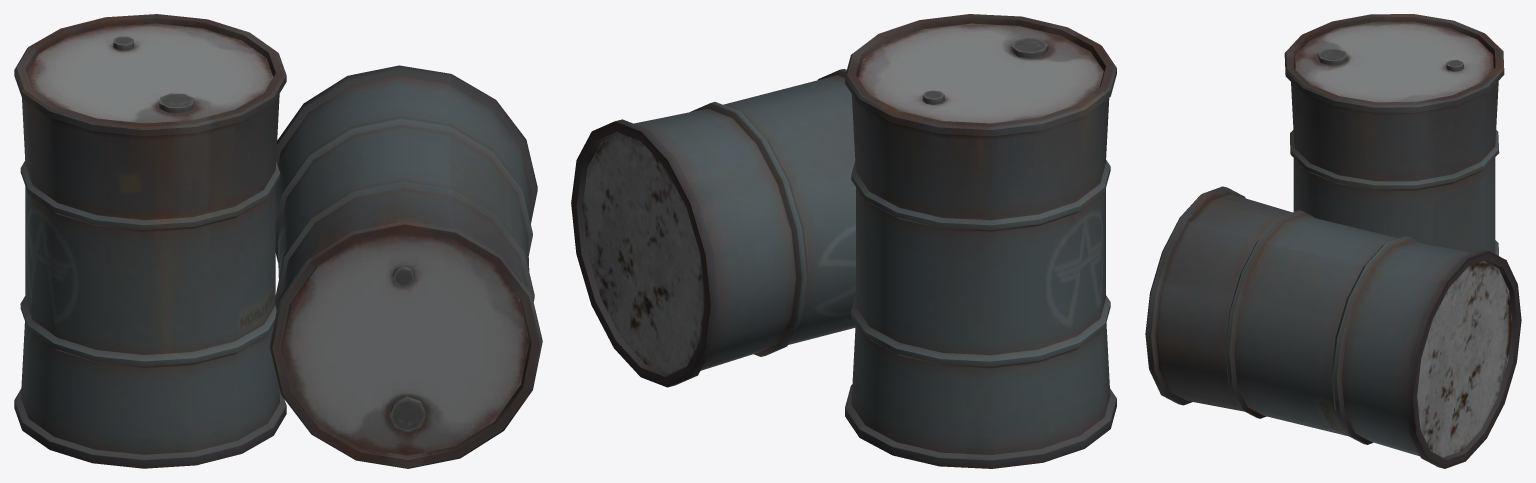
The model's file is ItemSpot.fbx.
The picture shows the model from 3 angles, left to right: view 1: azimuth 30°, elevation 25°; view 2: azimuth 150°, elevation 25°; view 3: azimuth 270°, elevation 25°; orthographic projection. The views are drawn at different scales.
Parts seen in each view (by area): view 1: ItemBox_Drum_W (×2); view 2: ItemBox_Drum_W (×2); view 3: ItemBox_Drum_W (×2).
Part boxes in pixels (<box>): ItemBox_Drum_W (×2): <box>14,14,542,468</box>; ItemBox_Drum_W (×2): <box>571,14,1116,468</box>; ItemBox_Drum_W (×2): <box>1145,14,1521,468</box>.
Size of the model in its own units: 1.42 by 0.9165 by 1.1.
1 material, 1 textured.
